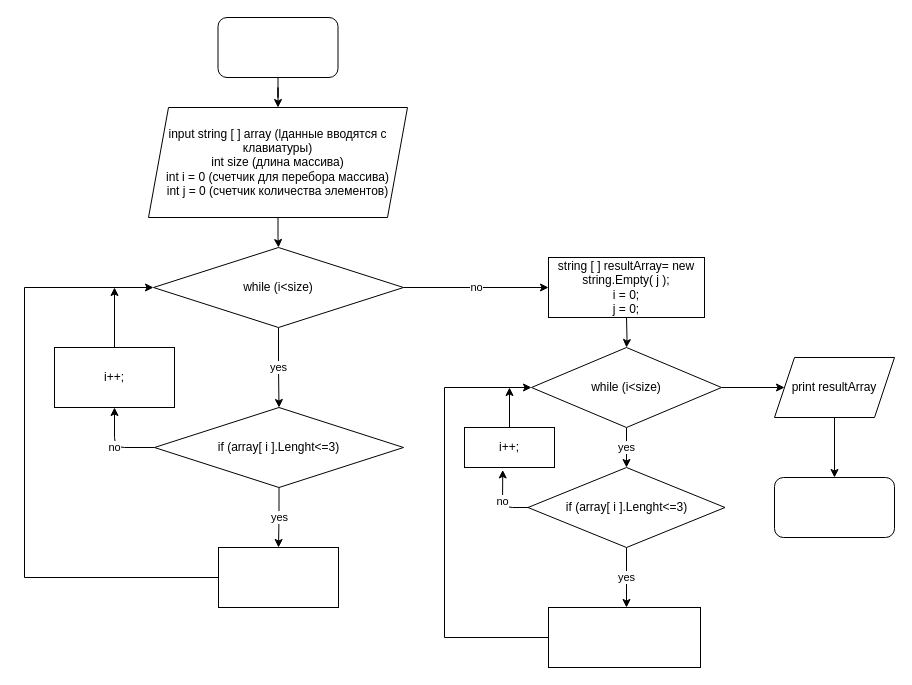
The diagram is 912 pixels wide and 685 high, and some of its shapes have lost their labels. The centre of each missing label's shape, as x and y in pixels:
end programm: the point at 834,507
j++; i++;: the point at 278,577
resulArray[ j ] = array[ i ]; j++; i++;: the point at 624,637
start program: the point at 277,47
